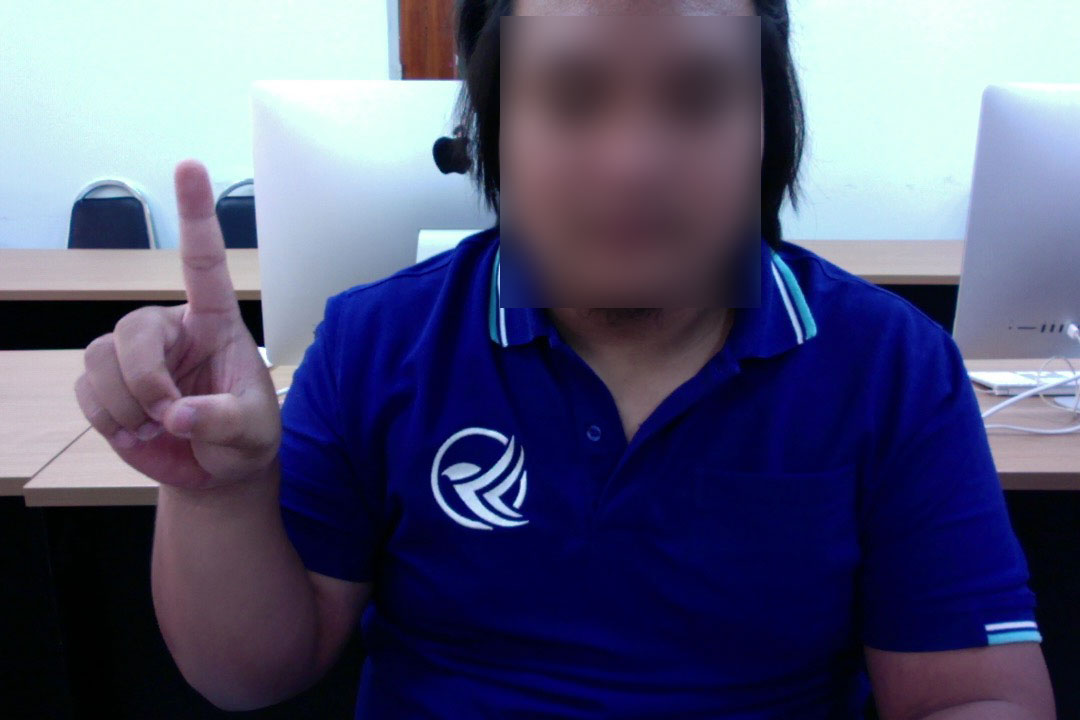dor: (70, 142, 292, 525)
